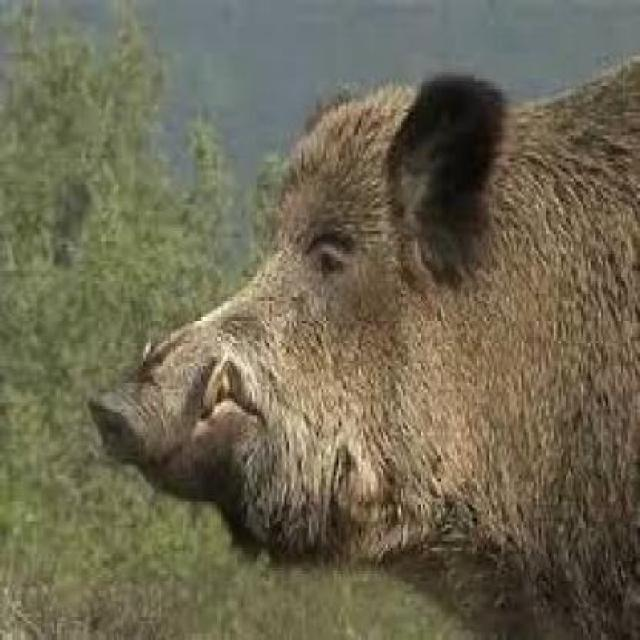Wild Boar: (84, 47, 640, 640)
